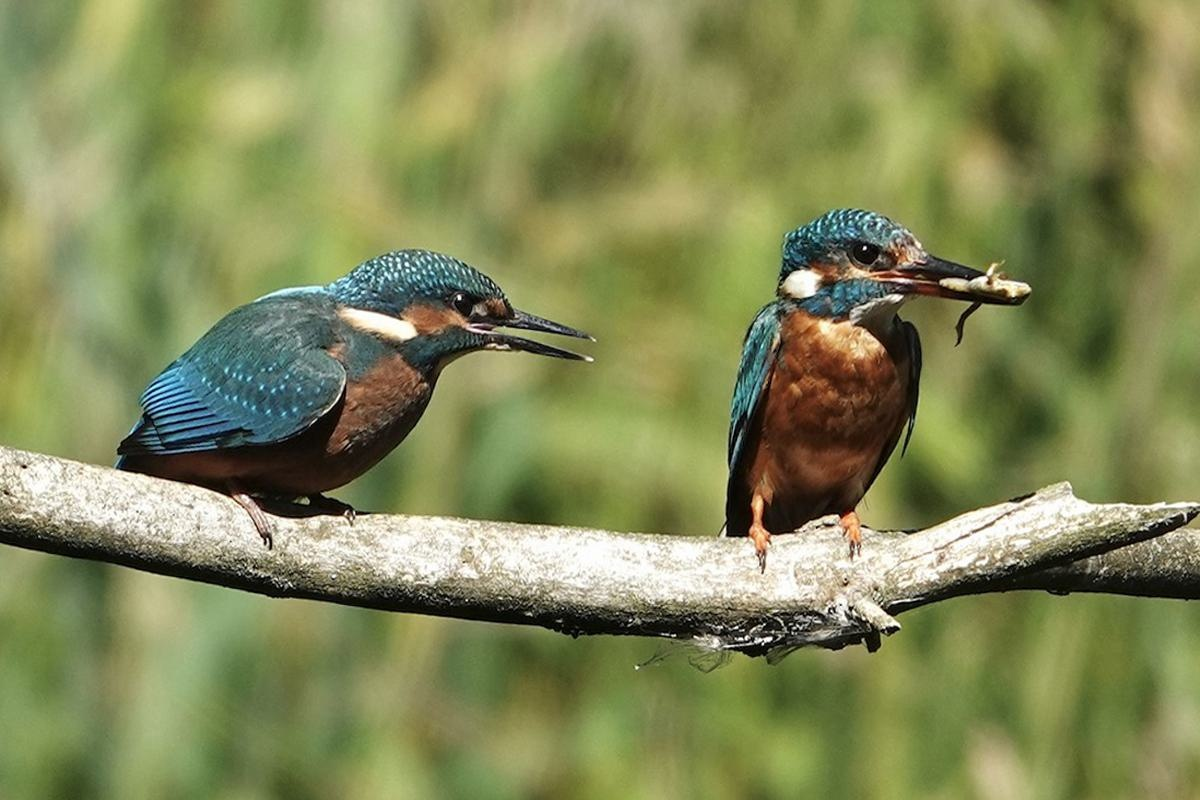kingfisher: (110, 238, 610, 537), (707, 205, 1011, 588)
